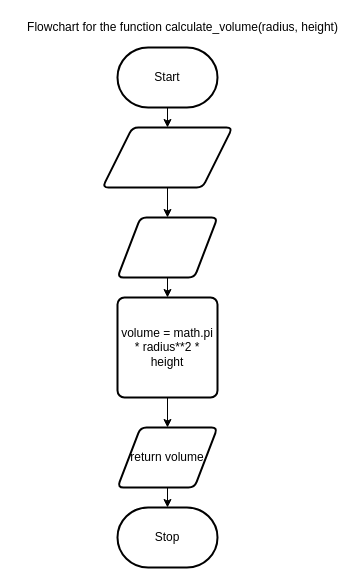
Image size: 364x585. Some labels were removed from this diagram. Each missing label, with the box of its shape:
get height: (116, 216, 218, 278)
get radius: (101, 126, 233, 188)
